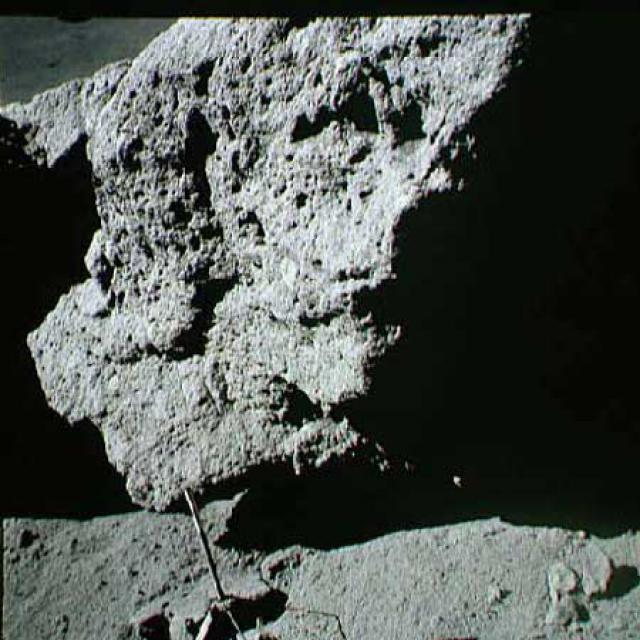artifact: (161, 484, 347, 638)
rock: (0, 0, 638, 523), (536, 554, 582, 634), (578, 534, 623, 596)
